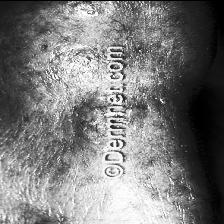Potentially Malignant Skin Tumors: (72, 90, 108, 142), (127, 82, 157, 134)
